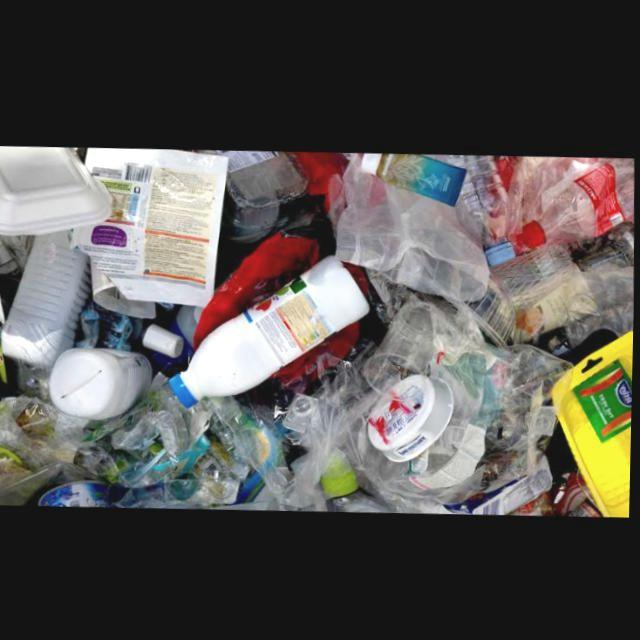aluminum: (34, 478, 119, 507)
plastic_bag: (267, 298, 574, 511), (333, 150, 491, 300)
plastic_bottle: (171, 252, 371, 407), (523, 154, 634, 244), (448, 152, 517, 261), (49, 346, 156, 415), (362, 151, 468, 204)
plastic_container: (551, 327, 634, 513), (3, 228, 92, 362), (366, 370, 457, 459), (364, 299, 441, 391)
plastic_sachet: (73, 147, 229, 306)
